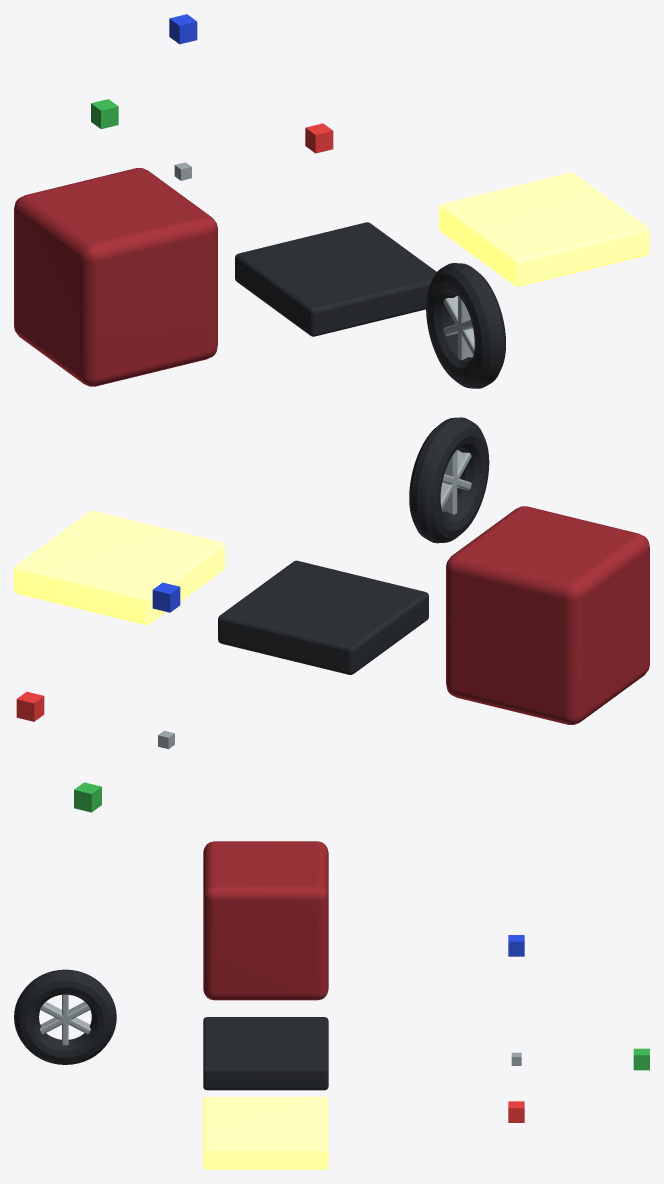
File: calibration.glb
The picture shows the model from 3 angles, top to bottom: view 1: azimuth 30°, elevation 25°; view 2: azimuth 150°, elevation 25°; view 3: azimuth 270°, elevation 25°; orthographic projection. The views are drawn at different scales.
Parts seen in each view (by area): view 1: metre_cube, emissive_patch, rubber_patch, calibration_tire, axis_z, axis_x, axis_y; view 2: metre_cube, rubber_patch, emissive_patch, calibration_tire, axis_x, axis_z, axis_y; view 3: metre_cube, emissive_patch, rubber_patch, calibration_tire.
Part boxes in pixels (x1,y1,x2,y2): metre_cube: [14, 168, 217, 386]; emissive_patch: [439, 172, 649, 286]; rubber_patch: [235, 222, 436, 336]; calibration_tire: [426, 263, 505, 388]; axis_z: [169, 14, 197, 44]; axis_x: [305, 123, 333, 153]; axis_y: [91, 99, 118, 129]; metre_cube: [446, 506, 649, 724]; rubber_patch: [218, 560, 428, 674]; emissive_patch: [14, 511, 224, 625]; calibration_tire: [409, 417, 489, 543]; axis_x: [16, 691, 44, 721]; axis_z: [152, 582, 180, 612]; axis_y: [74, 782, 101, 812]; metre_cube: [203, 841, 328, 1000]; emissive_patch: [203, 1096, 328, 1169]; rubber_patch: [203, 1017, 328, 1090]; calibration_tire: [14, 969, 116, 1064].
Size of what is drawn, in the model's own units: 4.15 by 1.13 by 5.08.
